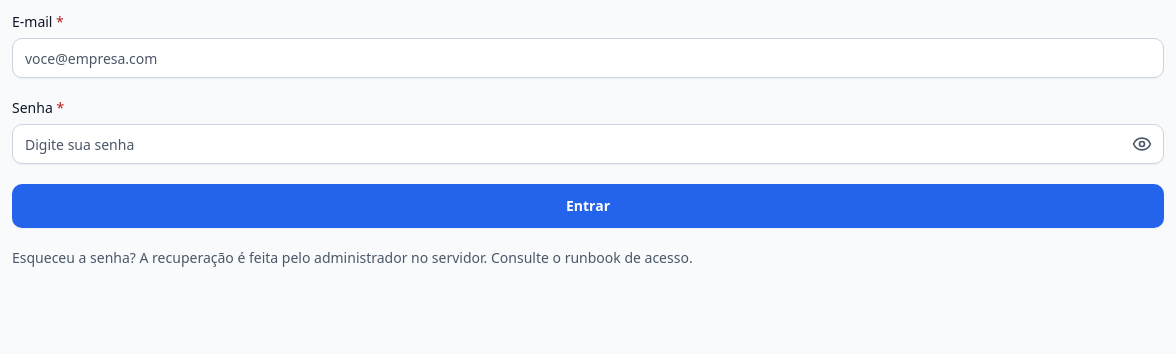
Scenario: LoginForm › explains network failures and unexpected errors
Step 1. Type "rodrigo@example.com" into the field labelled "E-mail *" → (588,58), box x1=12 y1=38 x2=1164 y2=78
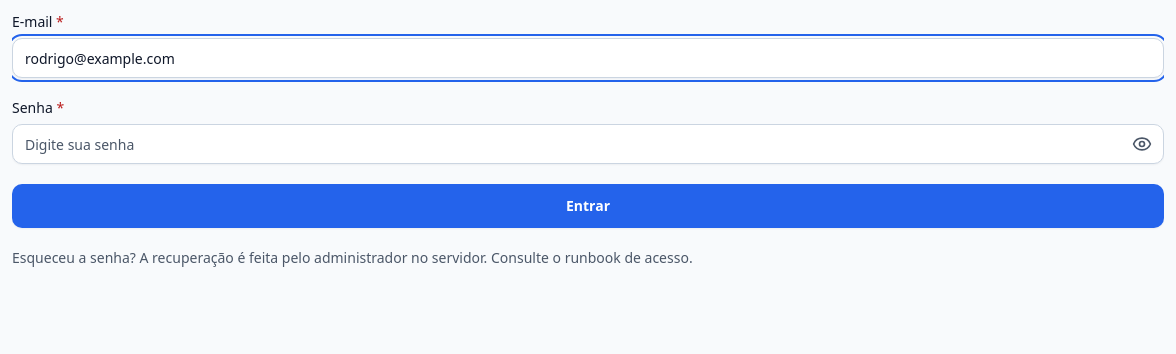
Step 2. Type "linkedin-ops-dev-password" into the password field labelled "Senha *" → (588,144), box x1=12 y1=124 x2=1164 y2=164
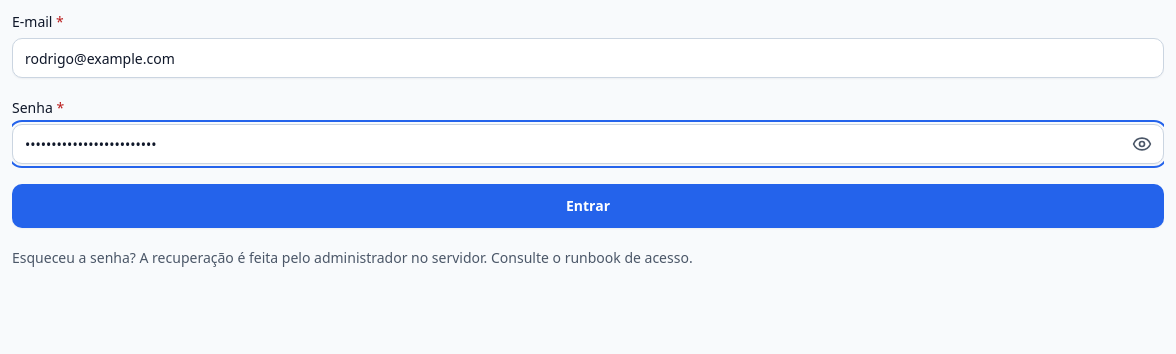
Step 3. Click the button "Entrar" → (588,206), box x1=12 y1=184 x2=1164 y2=228
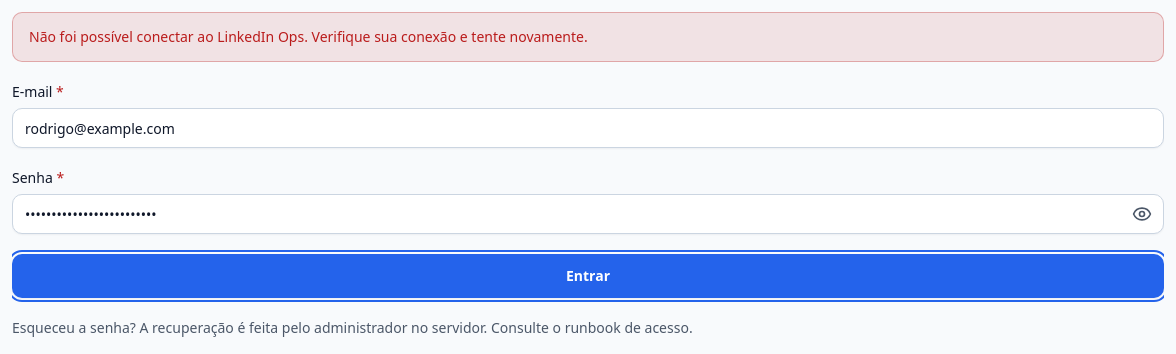
Expected: the message shows "Não foi possível conectar ao LinkedIn Ops. Verifique sua conexão e tente novamente.", x1=29 y1=27 x2=588 y2=46
Step 4. Click the button "Entrar" → (588,276), box x1=12 y1=254 x2=1164 y2=298
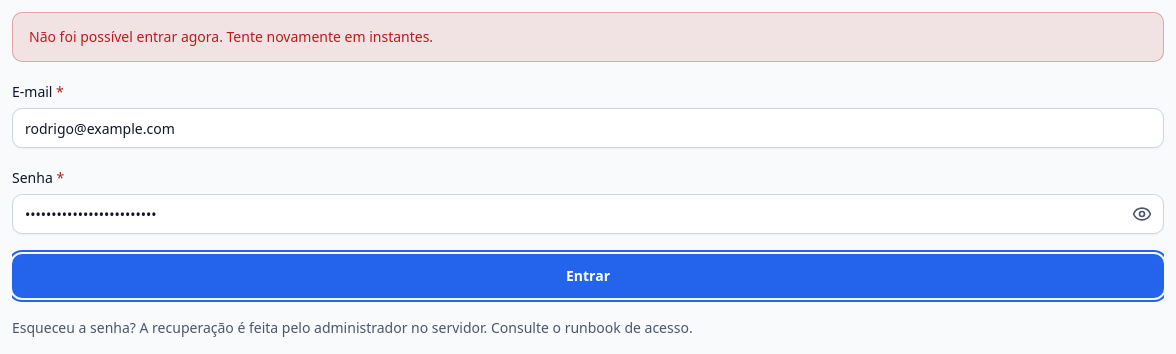
Expected: the message reads "Não foi possível entrar agora. Tente novamente em instantes.", x1=29 y1=27 x2=433 y2=46
